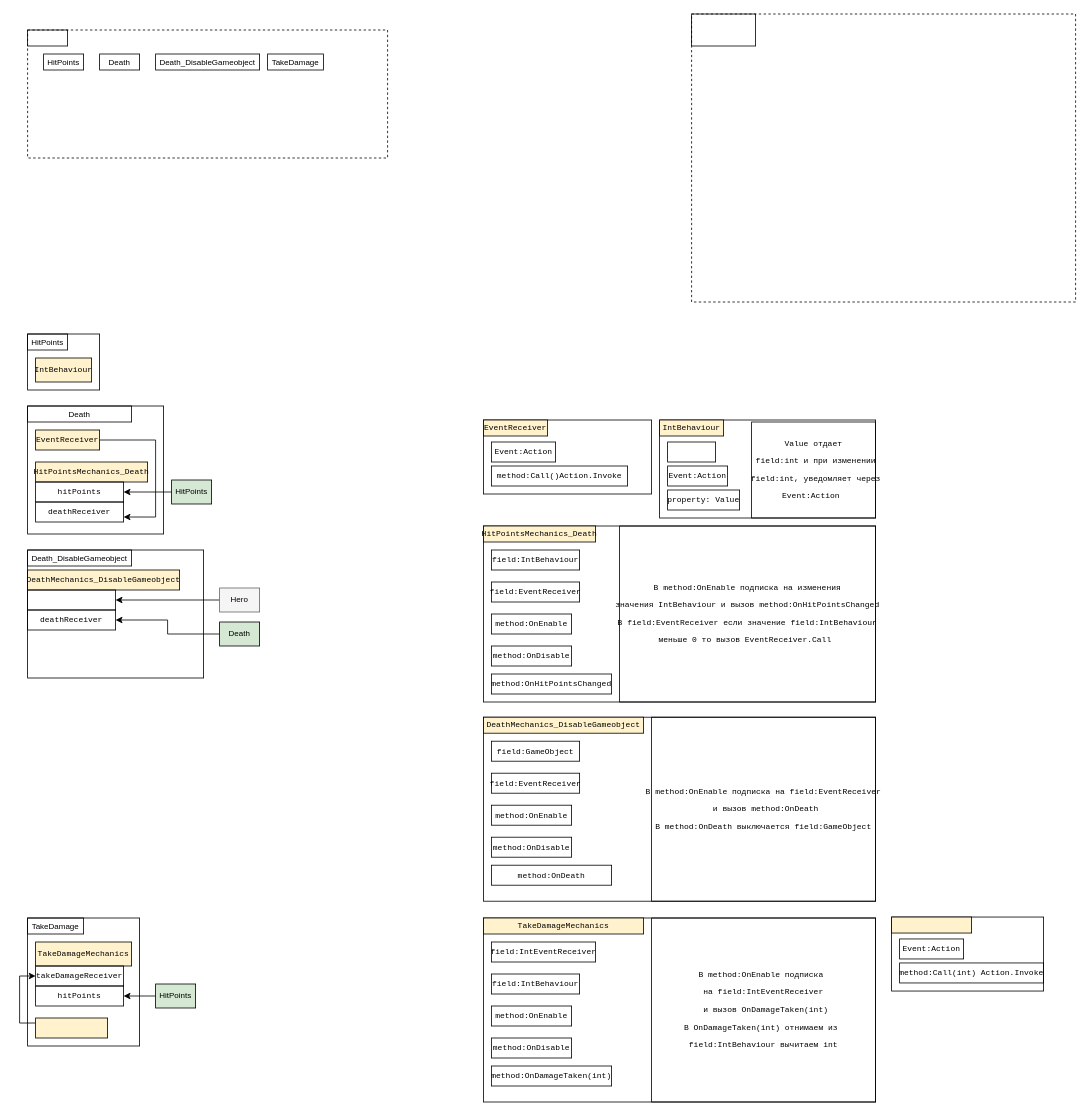
Image size: 1090x1116. Some labels were removed from this diagram. The centre of each missing label's shape, as x and y in pixels:
"Components" goes at pixel 723 29.
"Core" goes at pixel 47 37.
"field: int" goes at pixel 691 451.
"Int EventReceiver" goes at pixel 931 924.
"IntEventReceiver" goes at pixel 71 1027.
"target" goes at pixel 71 599.
